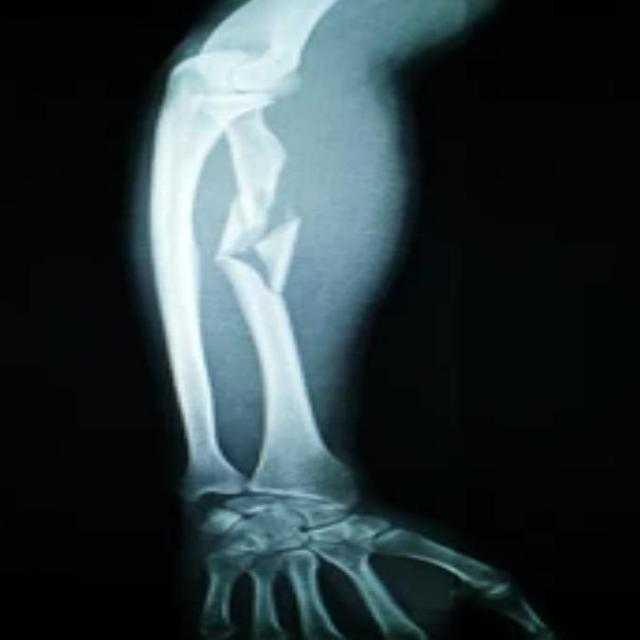bone: (199, 158, 318, 313)
